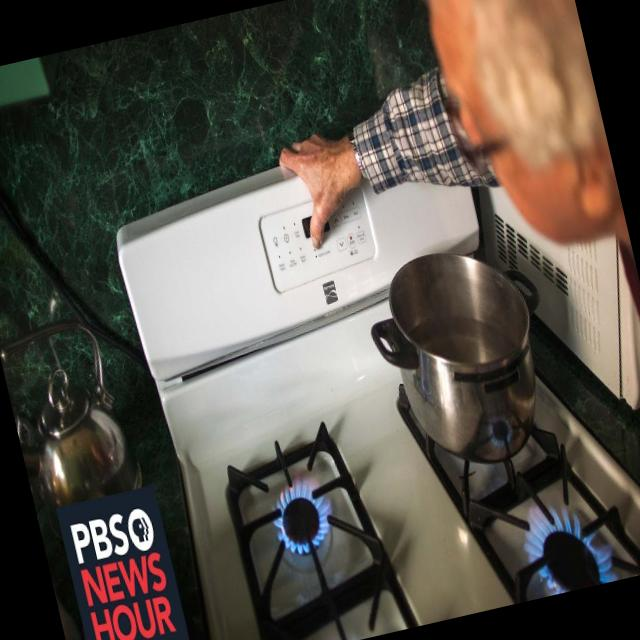knob_ON: (228, 453, 384, 583), (484, 482, 632, 596)
